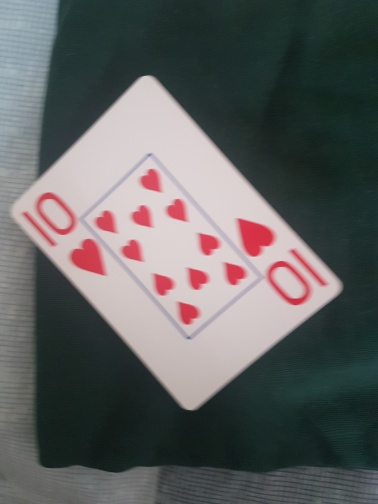ten: (8, 76, 340, 411)
